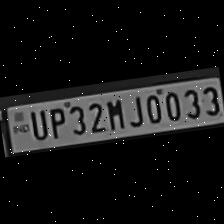0: (141, 90, 164, 126), (160, 88, 182, 124)
2: (82, 100, 106, 136)
3: (198, 81, 222, 117), (64, 102, 87, 136), (180, 86, 201, 120)
J: (124, 92, 146, 130)
M: (102, 95, 127, 132)
P: (44, 105, 68, 141)
U: (26, 107, 48, 142)
